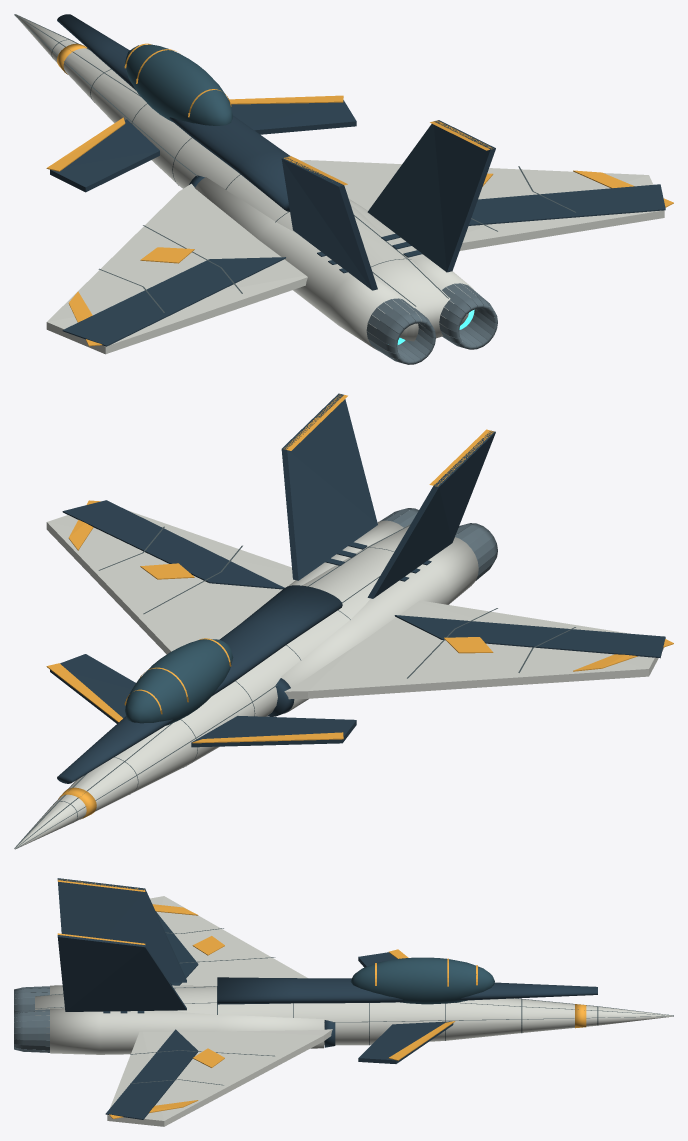
File: kestrel.glb
The picture shows the model from 3 angles, top to bottom: view 1: azimuth 30°, elevation 25°; view 2: azimuth 150°, elevation 25°; view 3: azimuth 270°, elevation 25°; orthographic projection. The views are drawn at different scales.
Visible parts, largest first — view 1: kestrel; view 2: kestrel; view 3: kestrel.
Part boxes in pixels (x1=…): kestrel: x1=14, y1=14, x2=673, y2=364; kestrel: x1=14, y1=393, x2=673, y2=849; kestrel: x1=14, y1=878, x2=673, y2=1126.
Size of the model in its own units: 14 by 3.88 by 17.35.
